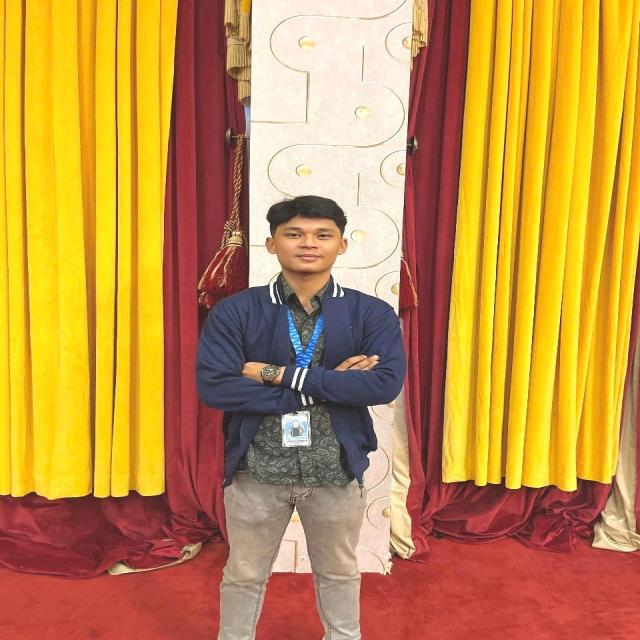nohelmet: (266, 186, 351, 282)
